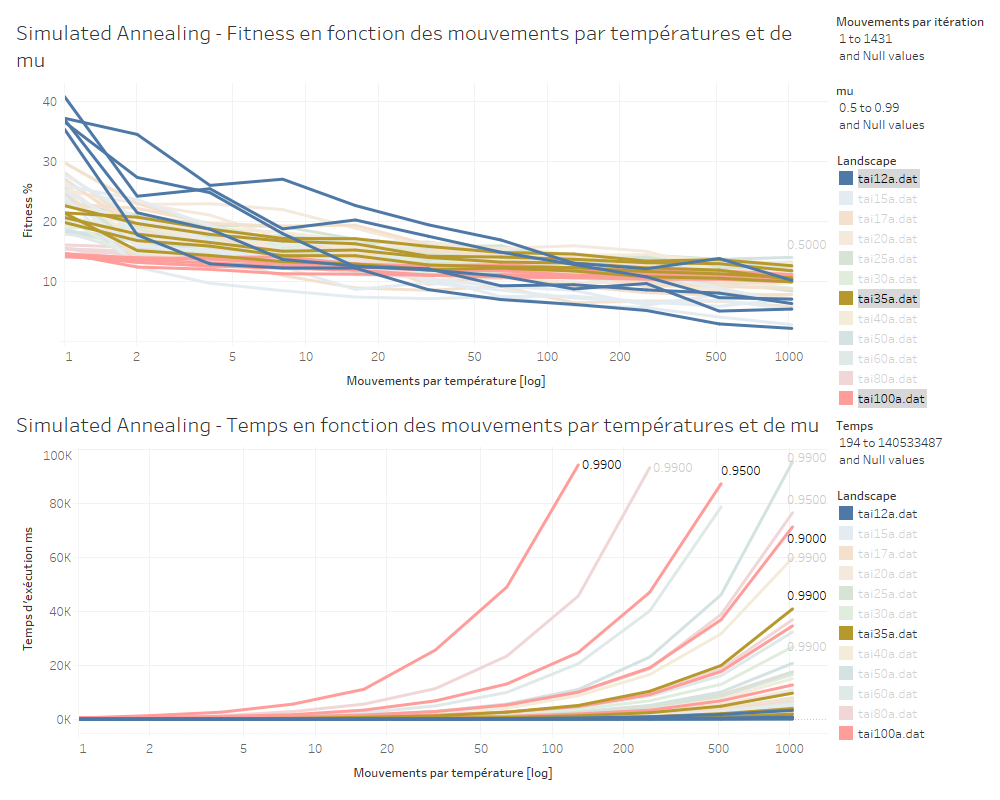

This screenshot's page, from the dashboard's own definition file:
{"tool":"tableau","page":{"name":"Simulated Annealing","canvas":[1000,800],"ordinal":2},"visuals":[{"type":"worksheet","title":"Simulated Annealing - Fitness","mark":"Line","rows":["Calculation_1762314897165549572"],"cols":["F7"],"box":[8,8,824,392]},{"type":"filter","title":"Simulated Annealing - Fitness","param":"[federated.11cgvjm1dvso7714uon5j07z6p7i].[none:F7:qk]","box":[832,8,160,69]},{"type":"filter","title":"Simulated Annealing - Fitness","param":"[federated.11cgvjm1dvso7714uon5j07z6p7i].[none:F5:qk]","box":[832,77,160,69]},{"type":"legend","title":"Simulated Annealing - Fitness","param":"[federated.11cgvjm1dvso7714uon5j07z6p7i].[none:F1:nk]","box":[832,146,160,86]},{"type":"filter","title":"Simulated Annealing - Temps","param":"[federated.11cgvjm1dvso7714uon5j07z6p7i].[none:F11:qk]","box":[832,232,160,69]},{"type":"legend","title":"Simulated Annealing - Temps","param":"[federated.11cgvjm1dvso7714uon5j07z6p7i].[none:F1:nk]","box":[832,301,160,86]},{"type":"worksheet","title":"Simulated Annealing - Temps","mark":"Line","rows":["Calculation_1762314897165619205"],"cols":["F7"],"box":[8,400,824,392]}]}

Visuals, with their boxes in screenshot pixels (x1, y1, x2, y2), scaled from the page's 1000x800 canvas onto the 1000x800 screenshot:
"Simulated Annealing - Fitness" worksheet (Line marks): (8, 8, 832, 400)
"Simulated Annealing - Fitness" filter: (832, 8, 992, 77)
"Simulated Annealing - Fitness" filter: (832, 77, 992, 146)
"Simulated Annealing - Fitness" legend: (832, 146, 992, 232)
"Simulated Annealing - Temps" filter: (832, 232, 992, 301)
"Simulated Annealing - Temps" legend: (832, 301, 992, 387)
"Simulated Annealing - Temps" worksheet (Line marks): (8, 400, 832, 792)
